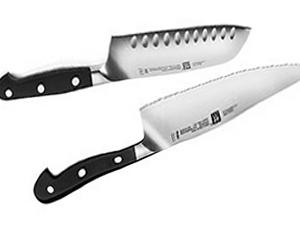knife: (34, 63, 300, 204), (1, 25, 250, 100)
